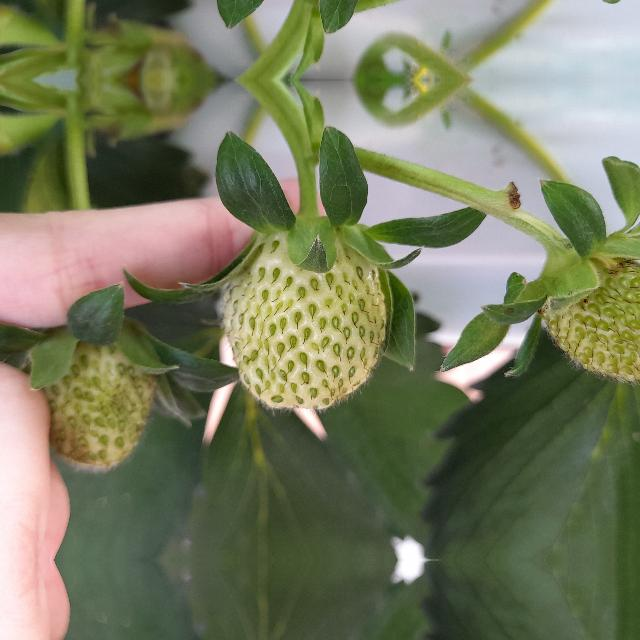Health_25: (224, 230, 386, 408)
